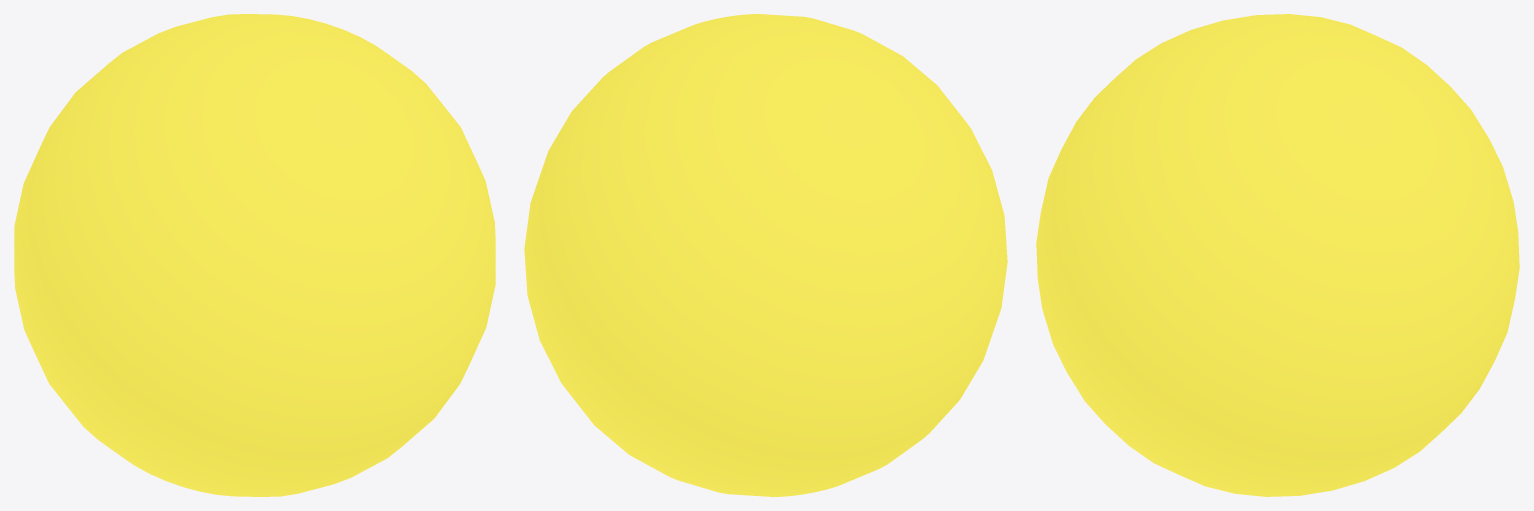
Rendered from AFRICA.gltf.
3 renders of one model, left to right at view 1: azimuth 30°, elevation 25°; view 2: azimuth 150°, elevation 25°; view 3: azimuth 270°, elevation 25°, orthographic.
Visible parts, largest first — view 1: Sphere; view 2: Sphere; view 3: Sphere.
Part boxes in pixels (left/top/right/bottom): Sphere: left=14, top=14, right=495, bottom=496; Sphere: left=524, top=14, right=1007, bottom=496; Sphere: left=1036, top=14, right=1519, bottom=496.
Size of the model in its own units: 5.33 by 5.32 by 5.33.
